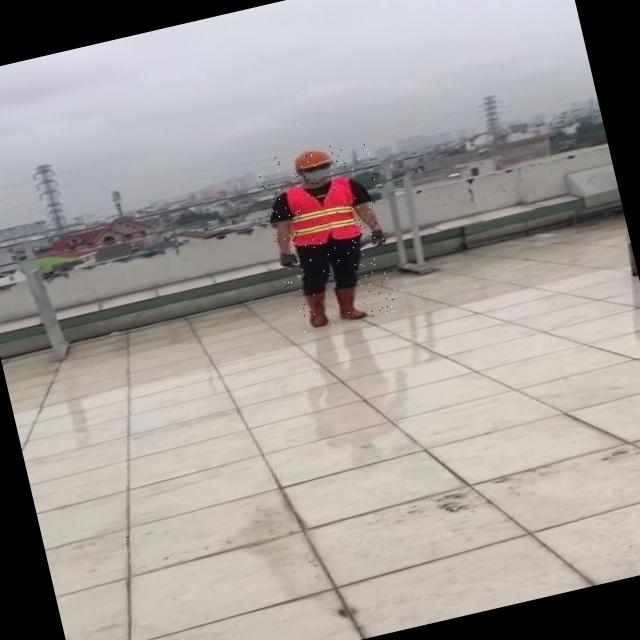hard_hat: (290, 145, 332, 170)
safety_vest: (279, 174, 362, 250)
vehicle: (255, 136, 406, 337)
work_boots: (332, 283, 368, 323), (300, 290, 332, 330)
